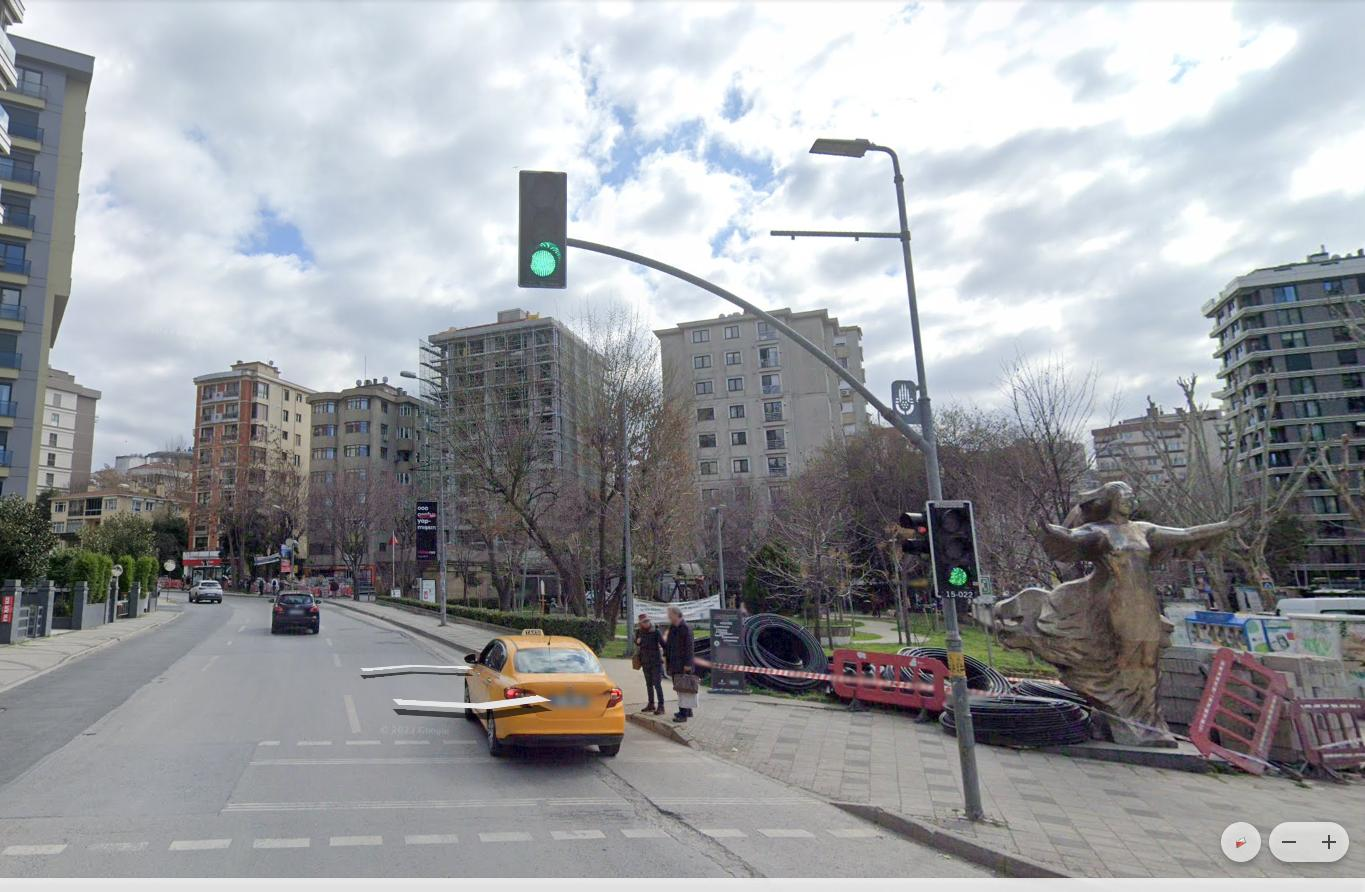greenlight: (517, 168, 567, 288), (927, 501, 972, 584)
